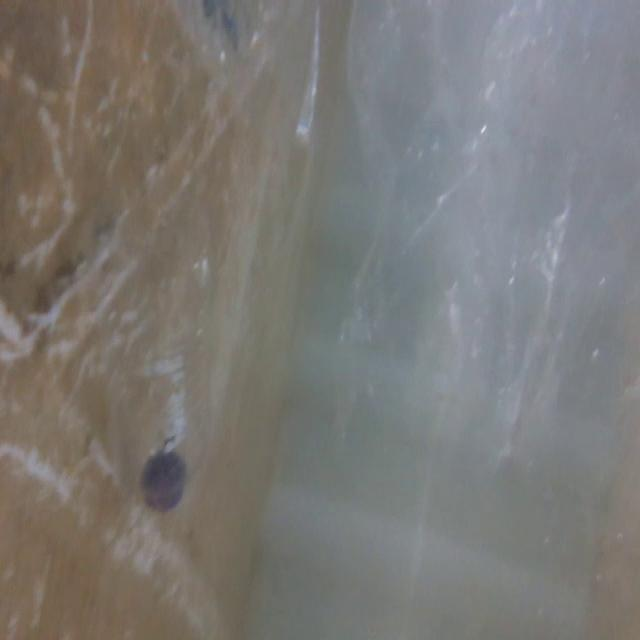plastic bags: (332, 0, 631, 479), (177, 0, 331, 158)
plastic bottle: (80, 158, 224, 532)
